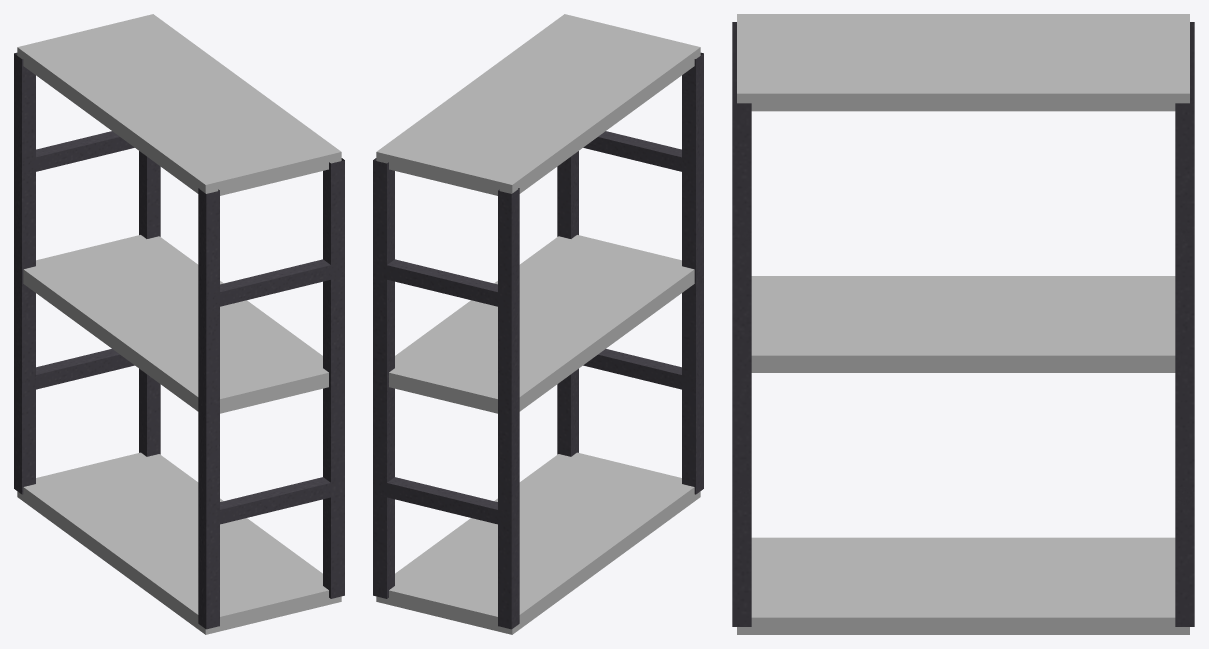
File: StorageRack-Double.fbx
3 views of the same model, side by side, from view 1: azimuth 30°, elevation 25°; view 2: azimuth 150°, elevation 25°; view 3: azimuth 270°, elevation 25° (orthographic). The views are drawn at different scales.
Visible parts, largest first — view 1: Shelf-roof, Shelf-floor, Shelf-2, Pilar.001, Pilar, Pilar.003, Pilar.002, crossbar-2-l-u, crossbar-2-l-b, crossbar-2-r-u, crossbar-2-r-b; view 2: Shelf-roof, Shelf-floor, Shelf-2, Pilar.003, Pilar.001, Pilar.002, Pilar, crossbar-2-r-b, crossbar-2-r-u, crossbar-2-l-b, crossbar-2-l-u; view 3: Shelf-roof, Shelf-floor, Shelf-2, Pilar.002, Pilar.
Boxes of the visible parts, x1,y1,x2,y2 form: Shelf-roof: (17, 14, 341, 195); Shelf-floor: (17, 452, 341, 634); Shelf-2: (23, 235, 328, 413); Pilar.001: (198, 188, 219, 629); Pilar: (323, 158, 344, 598); Pilar.003: (14, 52, 35, 494); Pilar.002: (139, 151, 160, 456); crossbar-2-l-u: (201, 259, 344, 309); crossbar-2-l-b: (220, 477, 330, 524); crossbar-2-r-u: (22, 131, 134, 175); crossbar-2-r-b: (14, 349, 134, 389); Shelf-roof: (376, 14, 700, 195); Shelf-floor: (376, 452, 700, 634); Shelf-2: (389, 235, 694, 413); Pilar.003: (498, 188, 519, 629); Pilar.001: (682, 52, 703, 494); Pilar.002: (373, 158, 394, 598); Pilar: (557, 151, 578, 456); crossbar-2-r-b: (373, 477, 519, 527); crossbar-2-r-u: (387, 259, 519, 306); crossbar-2-l-b: (583, 349, 699, 392); crossbar-2-l-u: (583, 131, 698, 174); Shelf-roof: (737, 14, 1189, 111); Shelf-floor: (737, 537, 1189, 634); Shelf-2: (751, 276, 1175, 372); Pilar.002: (1175, 95, 1194, 626); Pilar: (732, 95, 751, 626).
Bounding box in the file's own units: 100 × 310 × 240.
